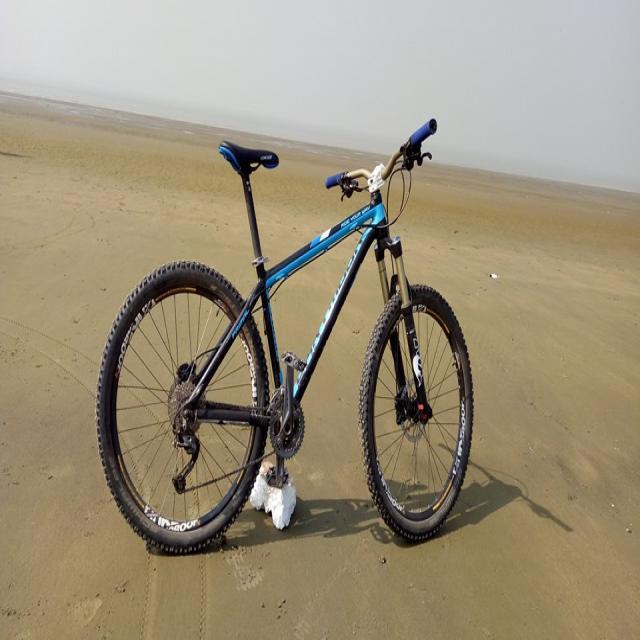Bicycle: (83, 78, 507, 585)
